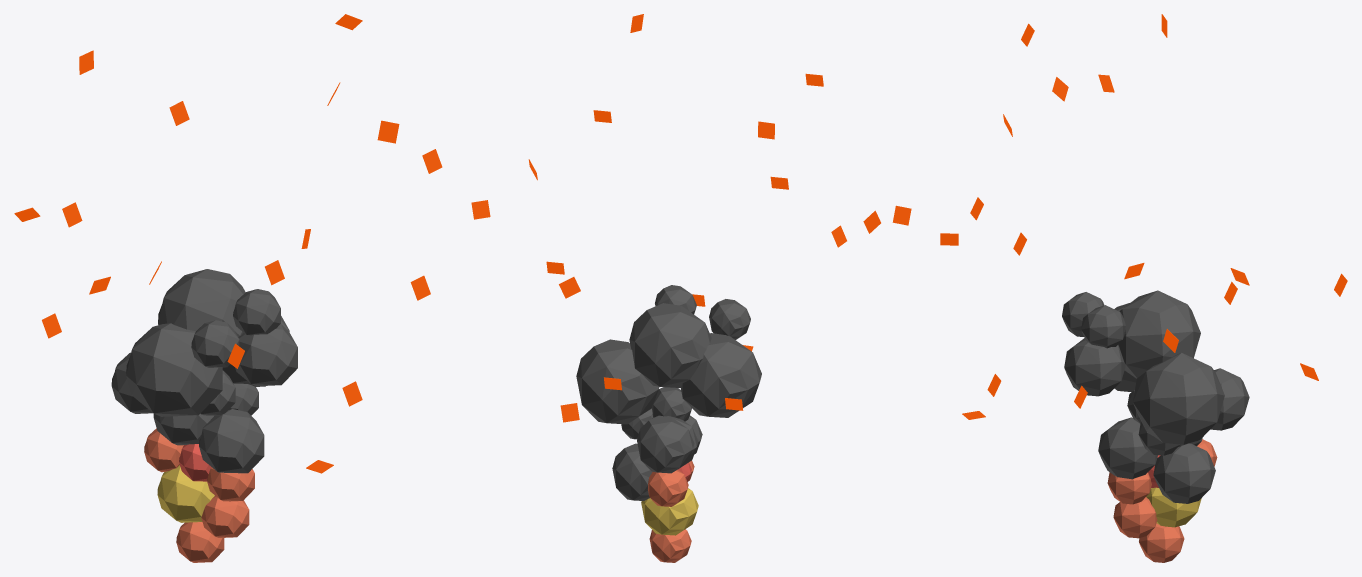
The model's file is 13 Fire_Smoke_2.FBX.
3 views of the same model, side by side, from view 1: azimuth 30°, elevation 25°; view 2: azimuth 150°, elevation 25°; view 3: azimuth 270°, elevation 25° (orthographic). The views are drawn at different scales.
Parts seen in each view (by area): view 1: Fire_4; view 2: Fire_4; view 3: Fire_4.
Boxes of the visible parts, x1,y1,x2,y2 form: Fire_4: (14, 14, 442, 562); Fire_4: (471, 14, 911, 562); Fire_4: (940, 14, 1347, 562).
Bounding box in the file's own units: 1206 × 1635 × 1155.
